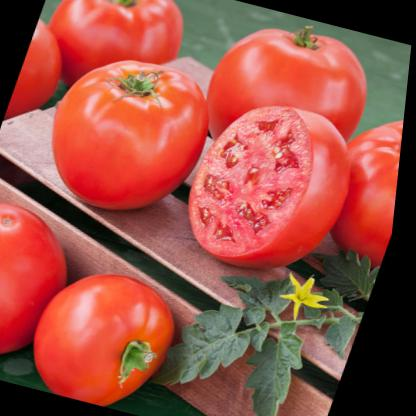tomato: (171, 94, 389, 292), (179, 6, 393, 192), (31, 43, 231, 228), (21, 254, 205, 416), (22, 0, 200, 125), (296, 98, 408, 277), (0, 190, 98, 377)
